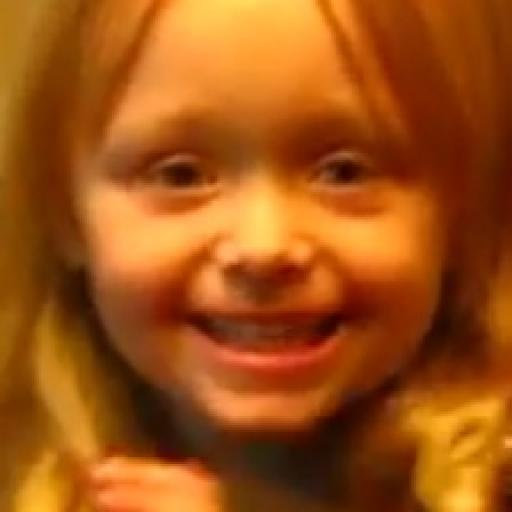Autism: (90, 32, 487, 512)
